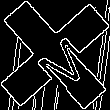M_NW: (21, 21, 89, 89)
